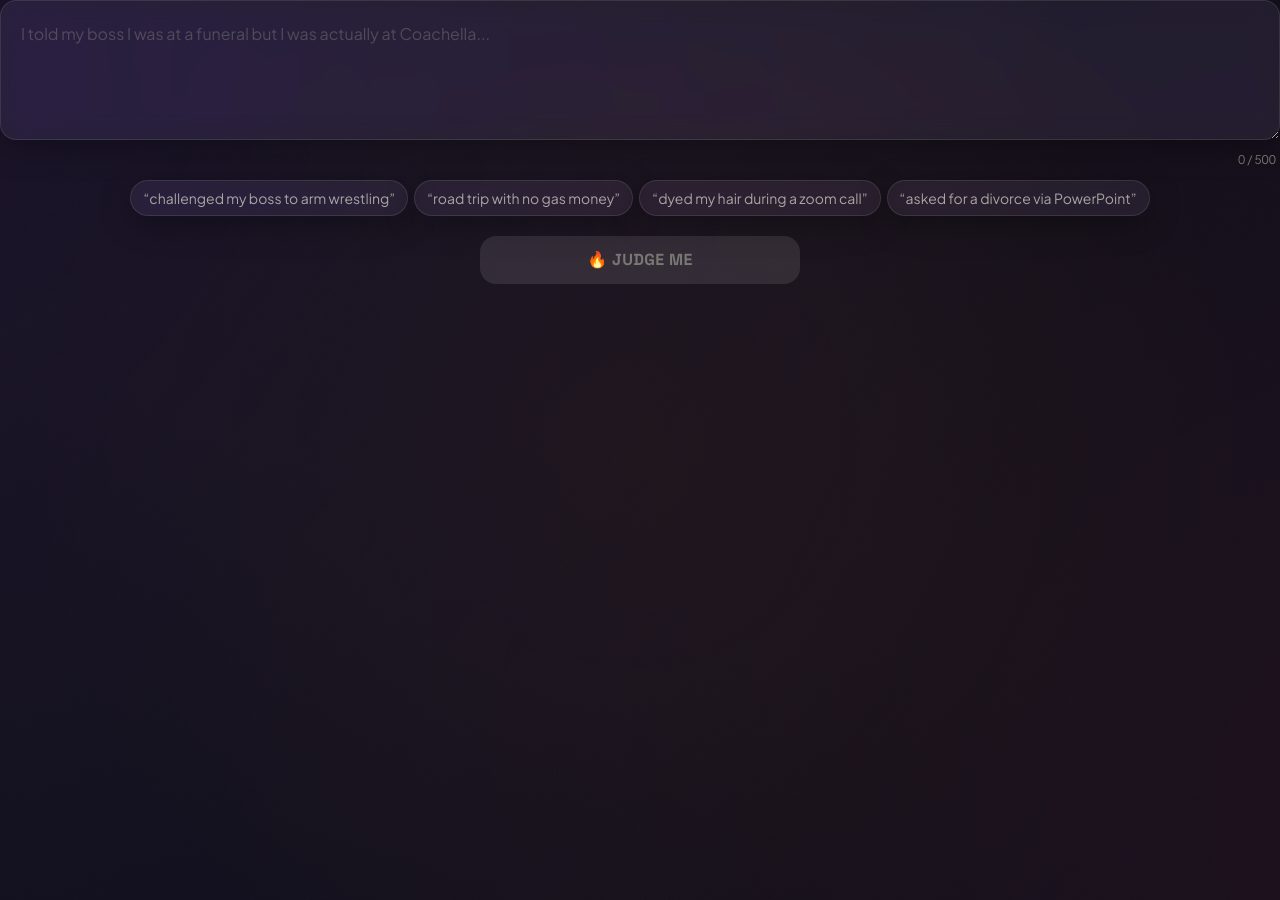
Test: InputForm › submit with < 10 chars shows validation error
The width and height of the screenshot is (1280, 900).
Type "short" into the text box with placeholder "I told my boss I was at a funeral" at [640, 70], box left=0, top=0, right=1279, bottom=140
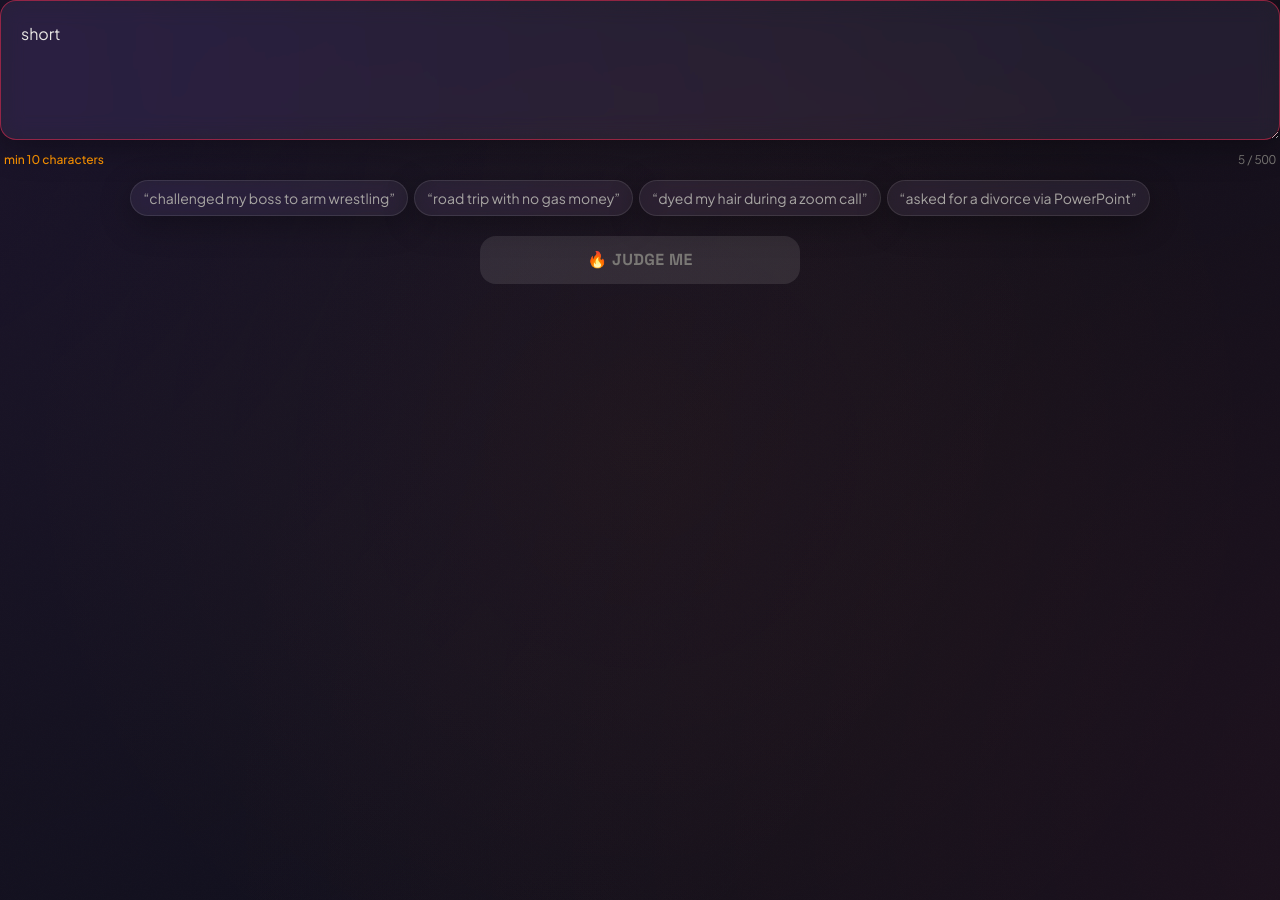
Submit the form via the form element itself
Submit the form with placeholder "I told my boss I was at a funeral", box left=0, top=0, right=1279, bottom=284
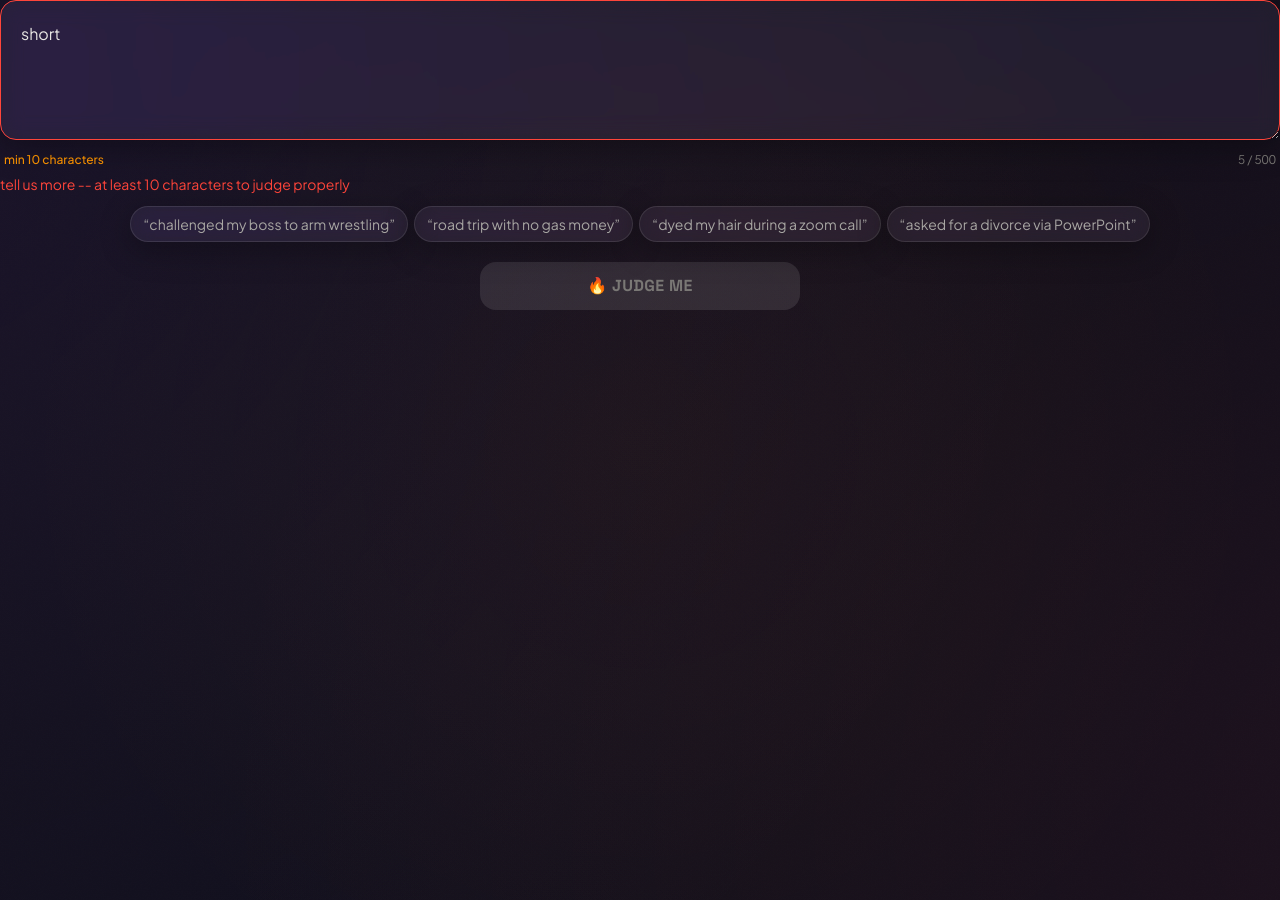
Result: the text "tell us more -- at least 10 characters to judge properly" is shown at left=0, top=175, right=350, bottom=193
